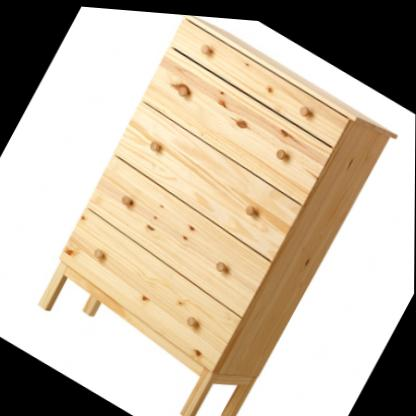Cabinet: (11, 1, 402, 416)
